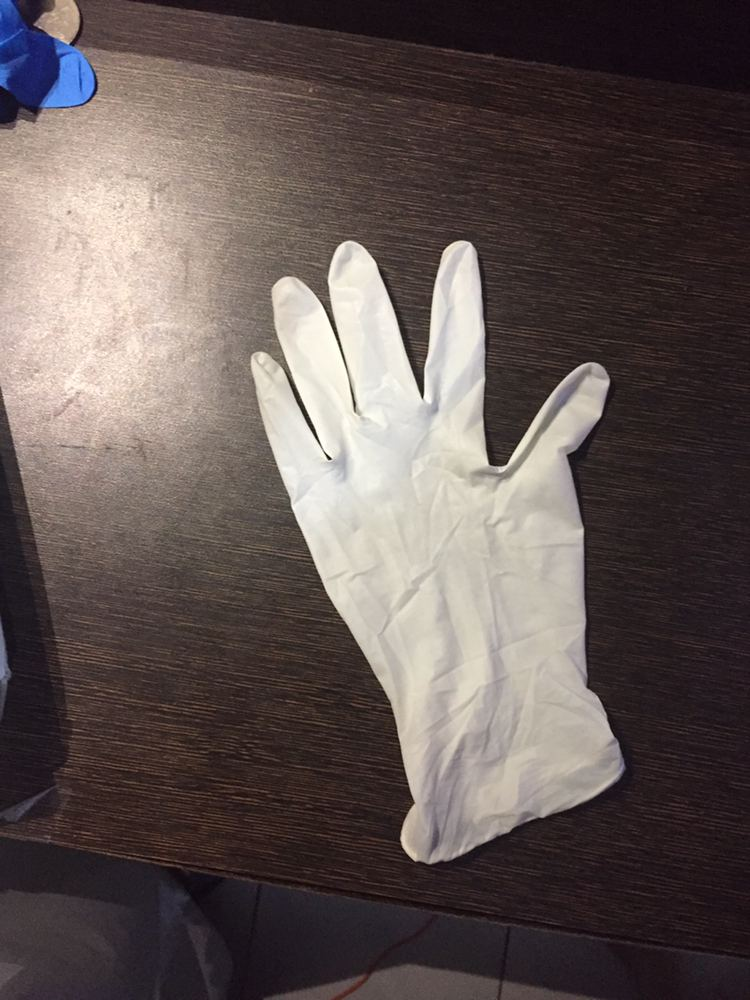glove: (243, 215, 660, 866)
